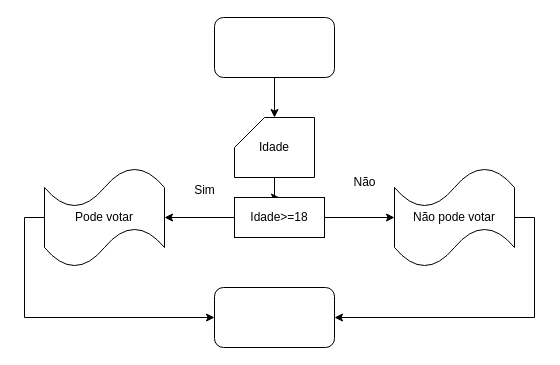
Image size: 560x365. Some labels were removed from this diagram. The centre of each missing label's shape, as x and y in pixels:
"Fim" belongs at (x=274, y=317).
"Início" belongs at (x=274, y=47).
